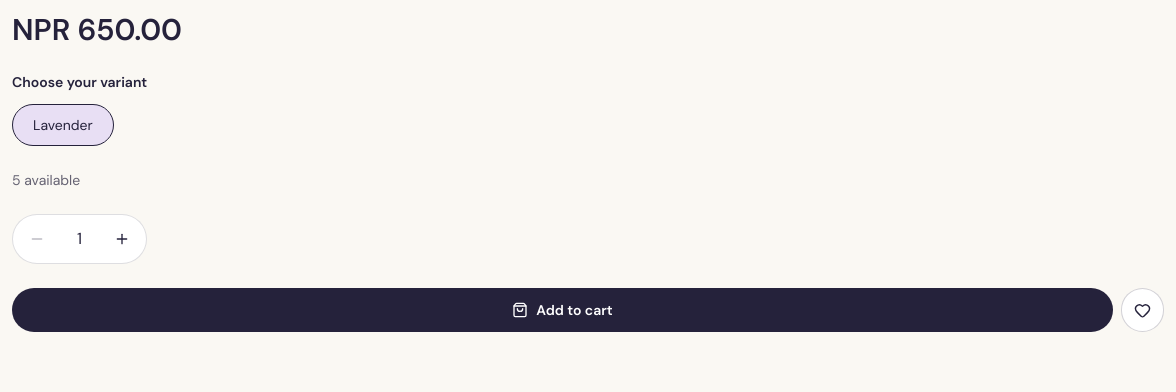
displays real cart errors
Click the button "Add to cart".
click(562, 310)  # box [12, 288, 1113, 332]
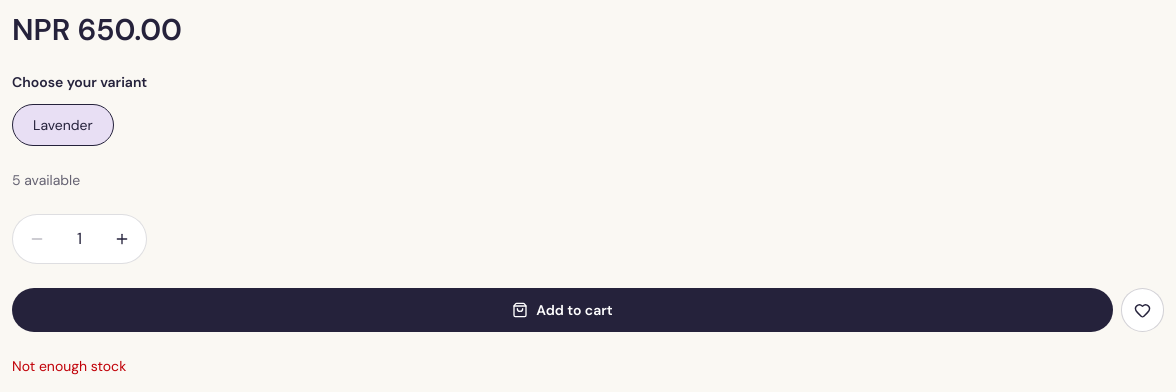
Now the message reads "Not enough stock", box [12, 357, 126, 375]
